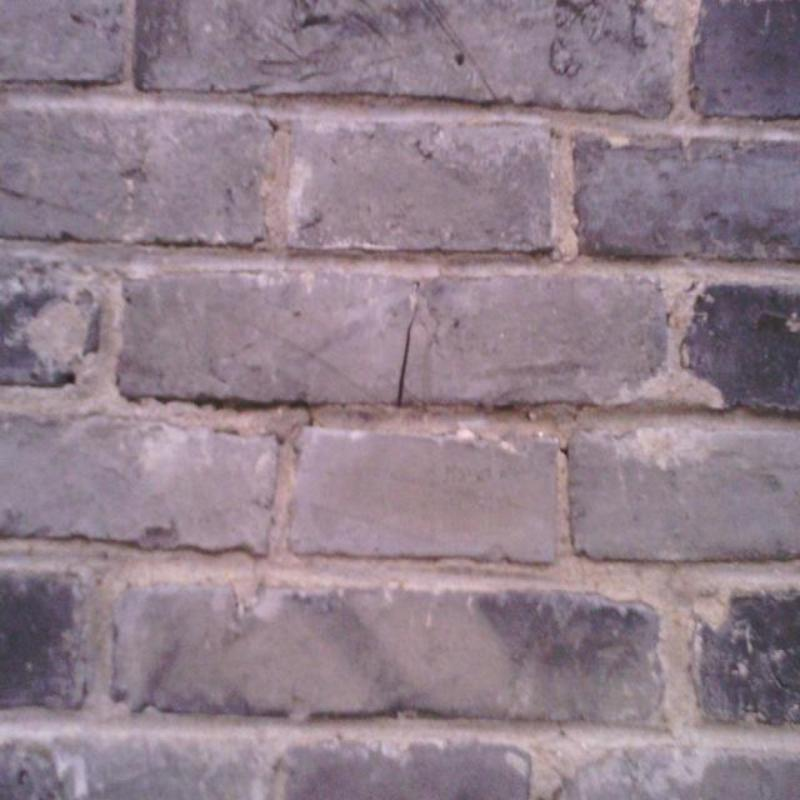crack: (397, 292, 417, 405), (305, 404, 315, 426)
